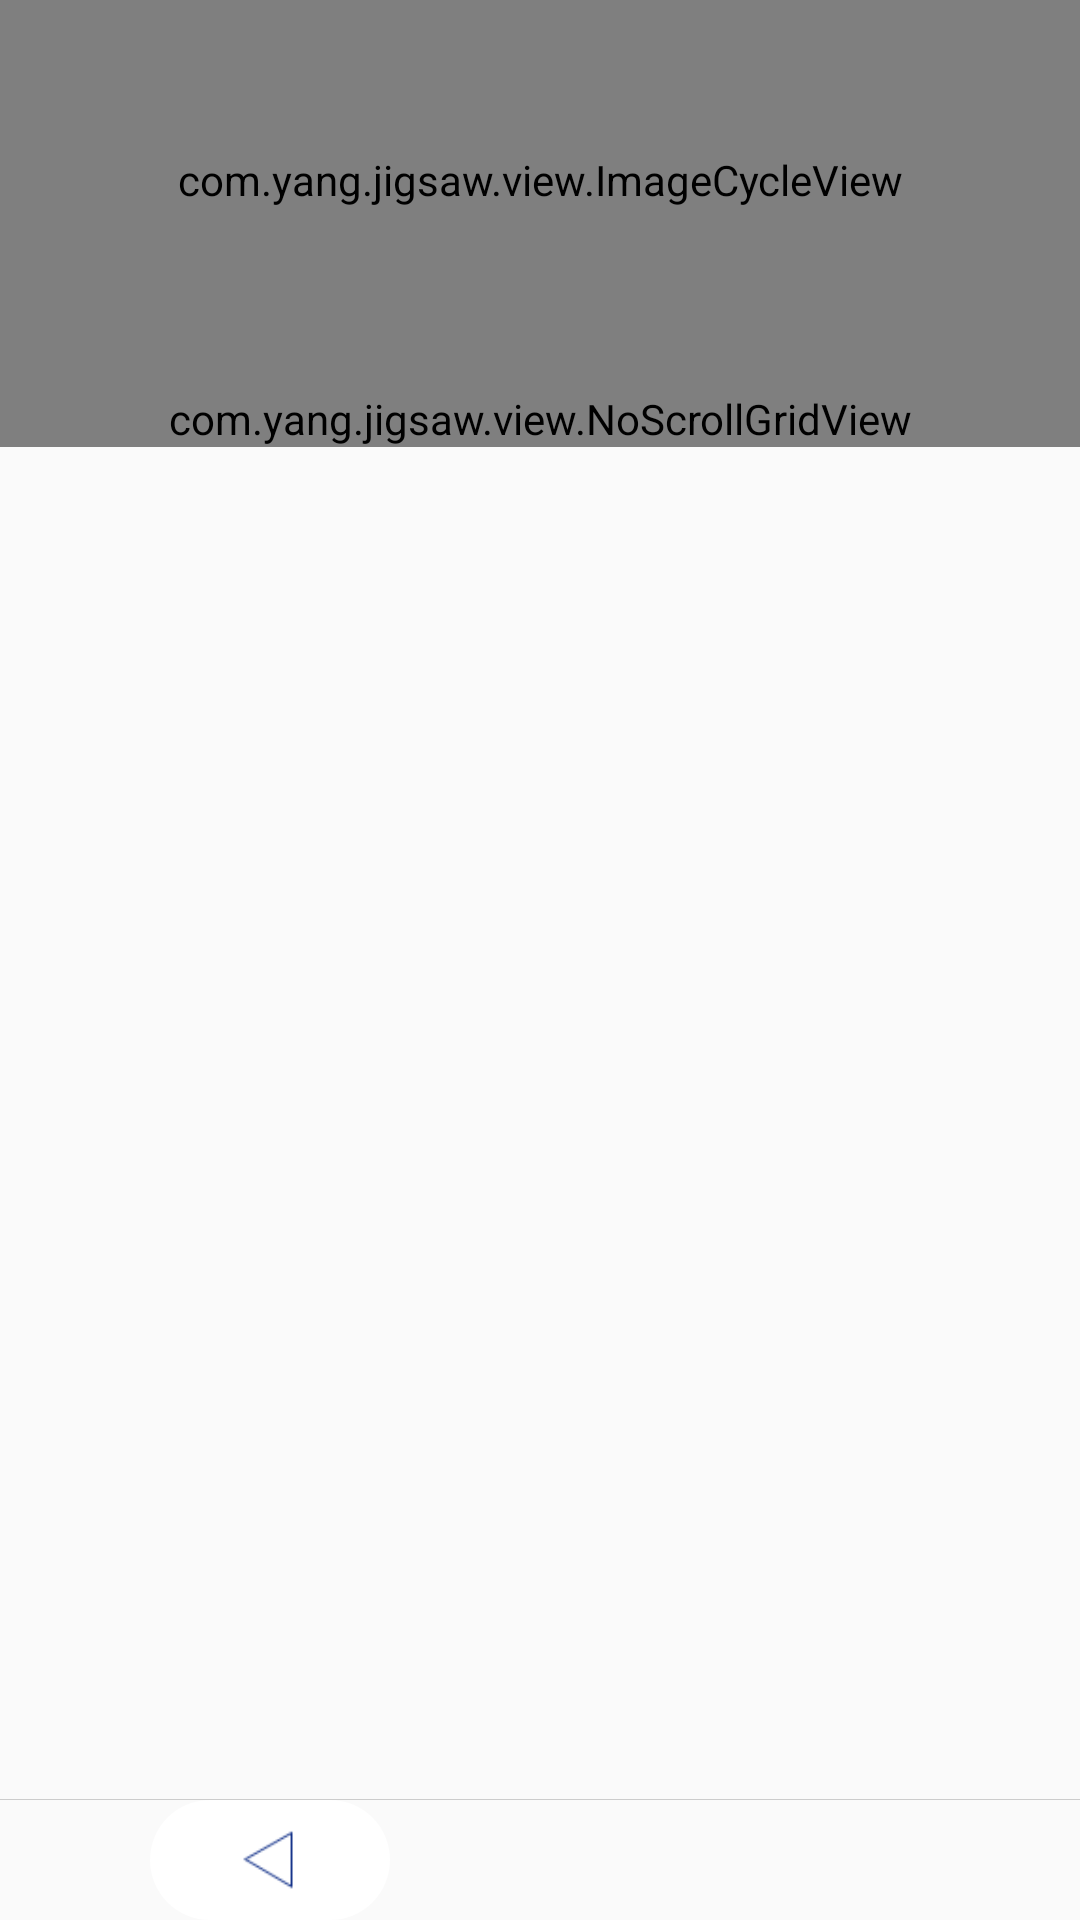

Where to tap for icons on this 1080px x 1920px app screen, as point (x, y):
triangle empty: point (268, 1860)
